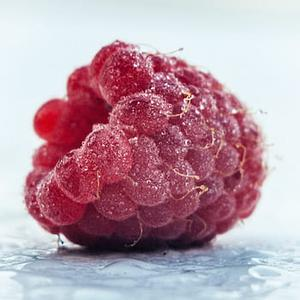raspb: (7, 27, 288, 259)
